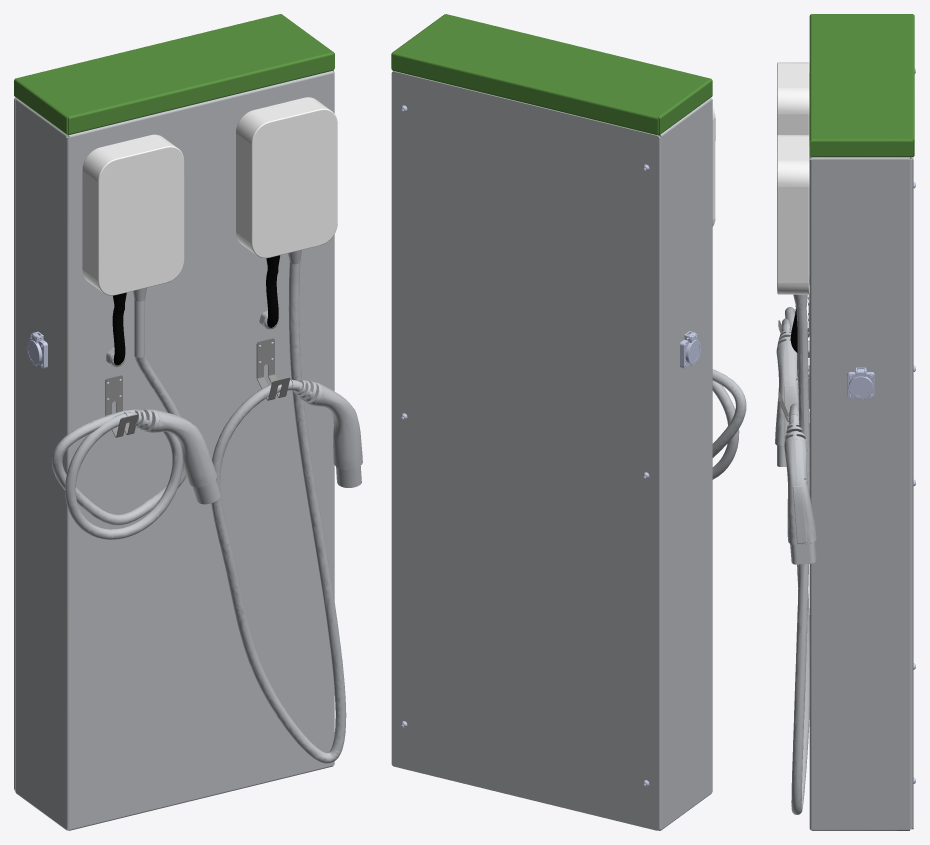
The model's file is ev_charger.glb.
3 renders of one model, left to right at view 1: azimuth 30°, elevation 25°; view 2: azimuth 150°, elevation 25°; view 3: azimuth 270°, elevation 25°, orthographic. The views are drawn at different scales.
Visible parts, largest first — view 1: m_0.55,0.57,0.6, m_1,1,1, m_0.1,0.3,0.05, m_0.3,0.3,0.3, m_0,0,0, m_0.6,0.65,0.85; view 2: m_0.55,0.57,0.6, m_0.1,0.3,0.05, m_0.6,0.65,0.85; view 3: m_0.55,0.57,0.6, m_0.1,0.3,0.05, m_1,1,1, m_0.6,0.65,0.85, m_0.3,0.3,0.3.
Boxes of the visible parts, x1,y1,x2,y2 form: m_0.55,0.57,0.6: [14, 70, 362, 830]; m_1,1,1: [82, 97, 337, 295]; m_0.1,0.3,0.05: [14, 14, 334, 135]; m_0.3,0.3,0.3: [105, 338, 289, 437]; m_0,0,0: [112, 255, 280, 365]; m_0.6,0.65,0.85: [26, 331, 273, 400]; m_0.55,0.57,0.6: [391, 71, 746, 830]; m_0.1,0.3,0.05: [391, 14, 712, 135]; m_0.6,0.65,0.85: [401, 105, 700, 786]; m_0.55,0.57,0.6: [775, 156, 913, 830]; m_0.1,0.3,0.05: [809, 14, 914, 157]; m_1,1,1: [777, 62, 809, 294]; m_0.6,0.65,0.85: [808, 68, 915, 783]; m_0.3,0.3,0.3: [778, 293, 809, 421].
Bounding box in the file's own units: 0.705 × 1.55 × 0.2851.
